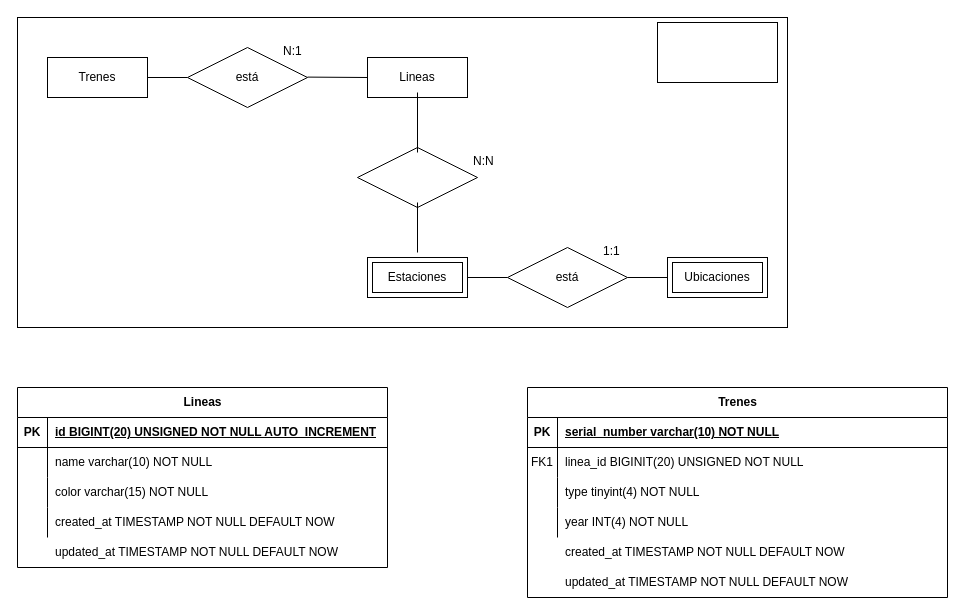
Some shapes in this 965 by 615 pixel diagram are drawn without their labels. The shapes that lost their labels are listed below. From the top down, each one's centre as x and y in pixels, then its label:
point (717, 52): Diagrama conceptual
point (417, 177): tiene
